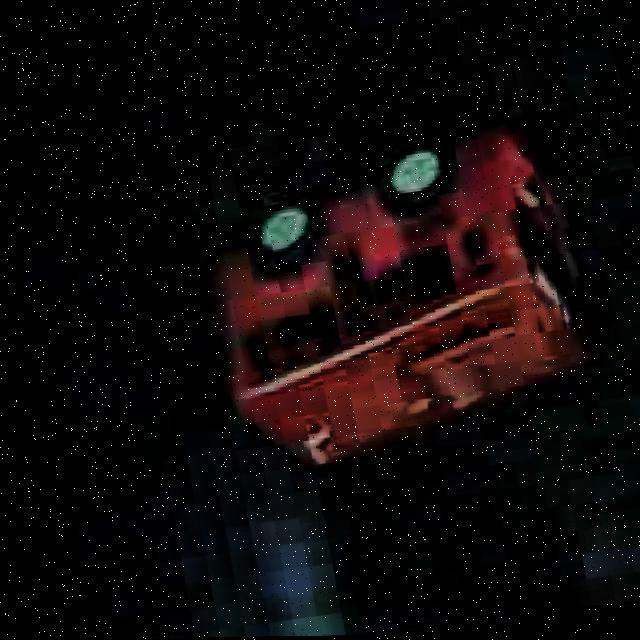bus: (154, 93, 627, 497)
